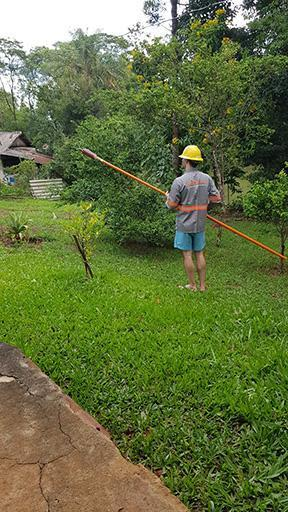helmet: (177, 143, 204, 171)
